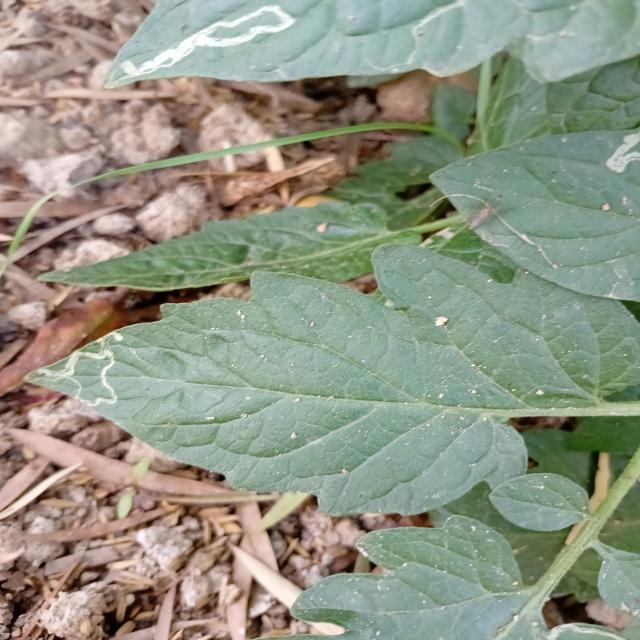Tuta absoluta: (117, 0, 297, 82), (33, 329, 148, 429), (604, 127, 640, 181)
